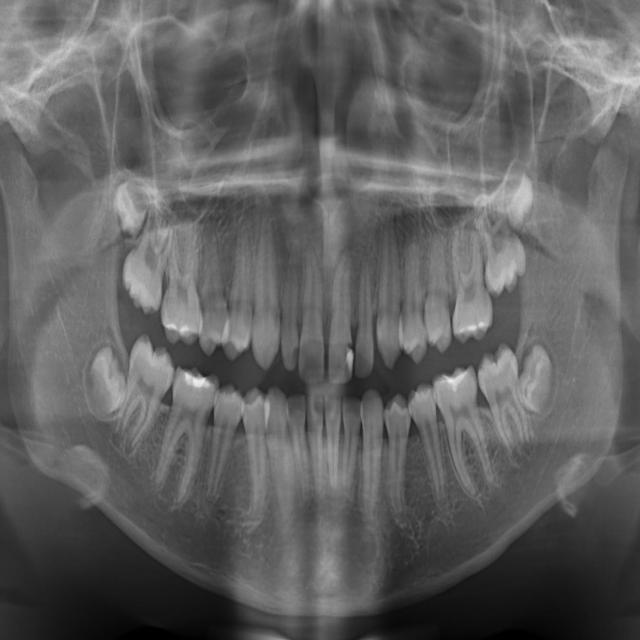CompositeResinRestoration: (439, 362, 471, 396), (164, 310, 194, 340), (457, 315, 489, 339), (182, 369, 210, 396)
DentalCaries: (291, 341, 299, 369), (346, 334, 354, 354)
